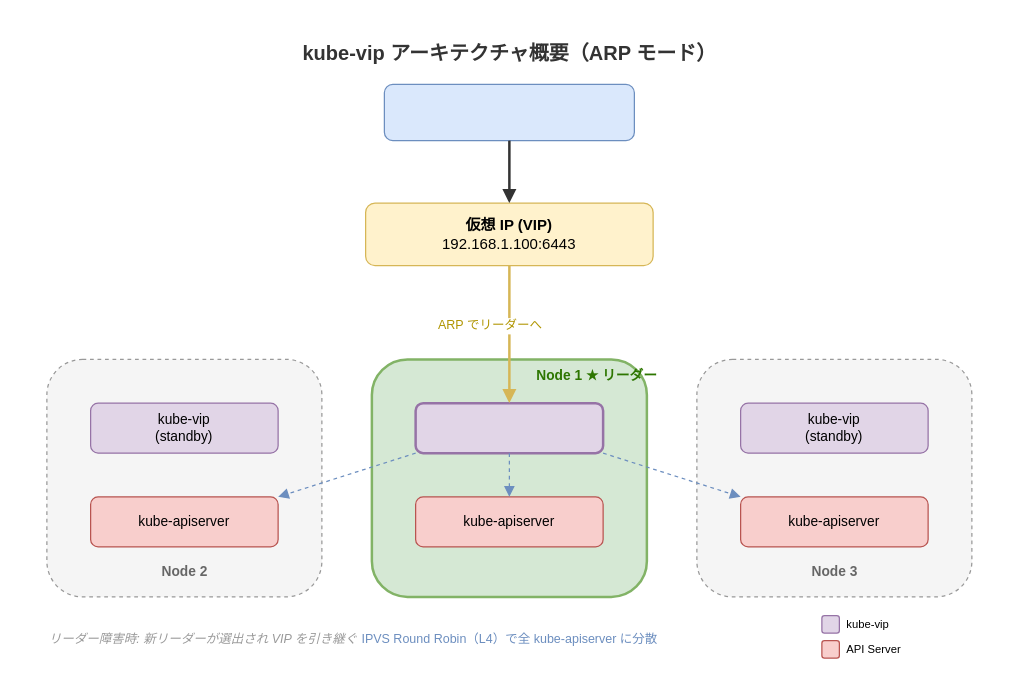
The diagram is 1018 pixels wide and 693 high, and some of its shapes have lost their labels. Each missing label, with the centre of its shape:
kube-vip + IPVS LB: the point at 509,427
クライアント / kubectl: the point at 508,112
